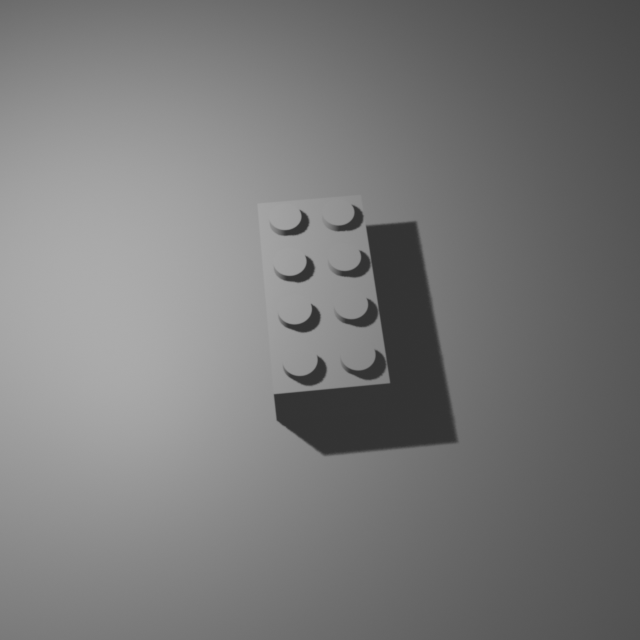lego_2x4: (257, 189, 391, 421)
